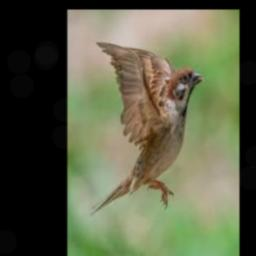Sparrow: (89, 41, 204, 214)
